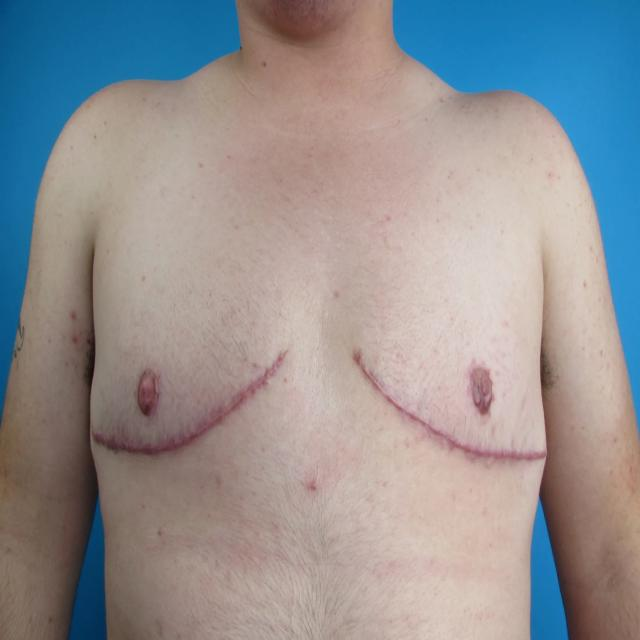Seno herido: (84, 236, 310, 478), (333, 235, 553, 482)
